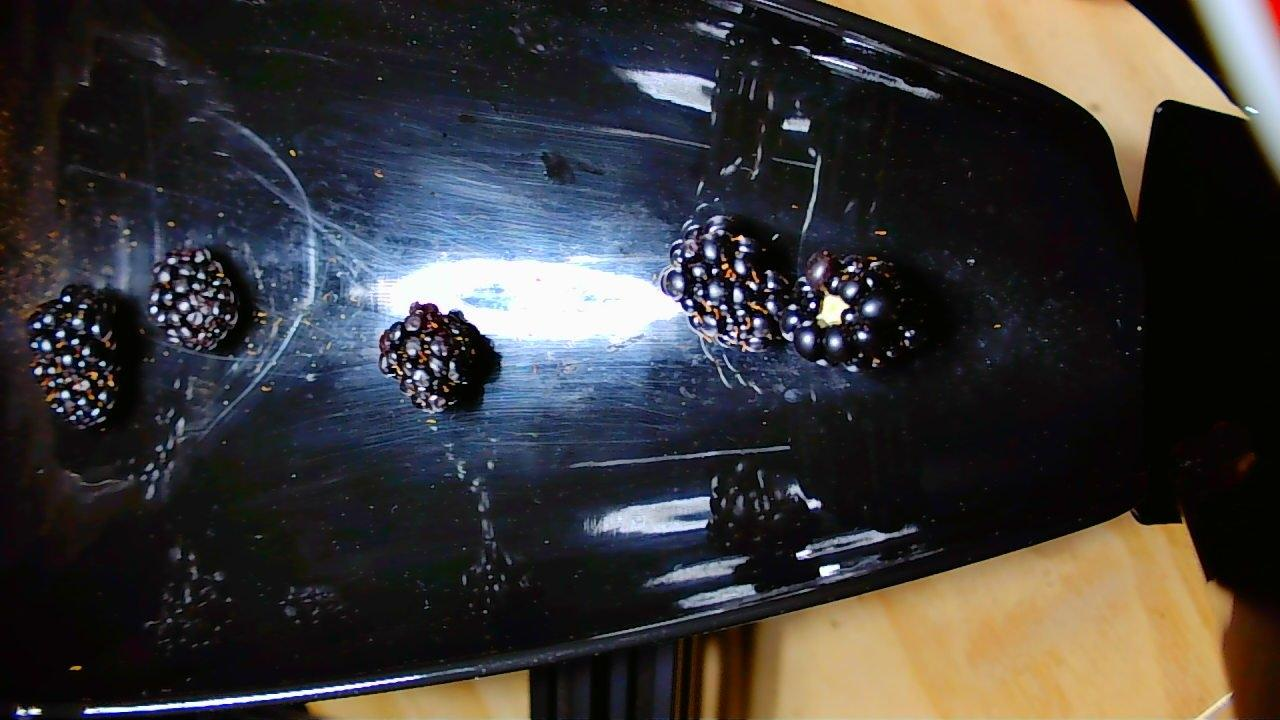berry: (664, 215, 783, 356), (782, 249, 916, 370), (28, 285, 128, 447), (380, 303, 496, 415), (146, 241, 254, 351)
